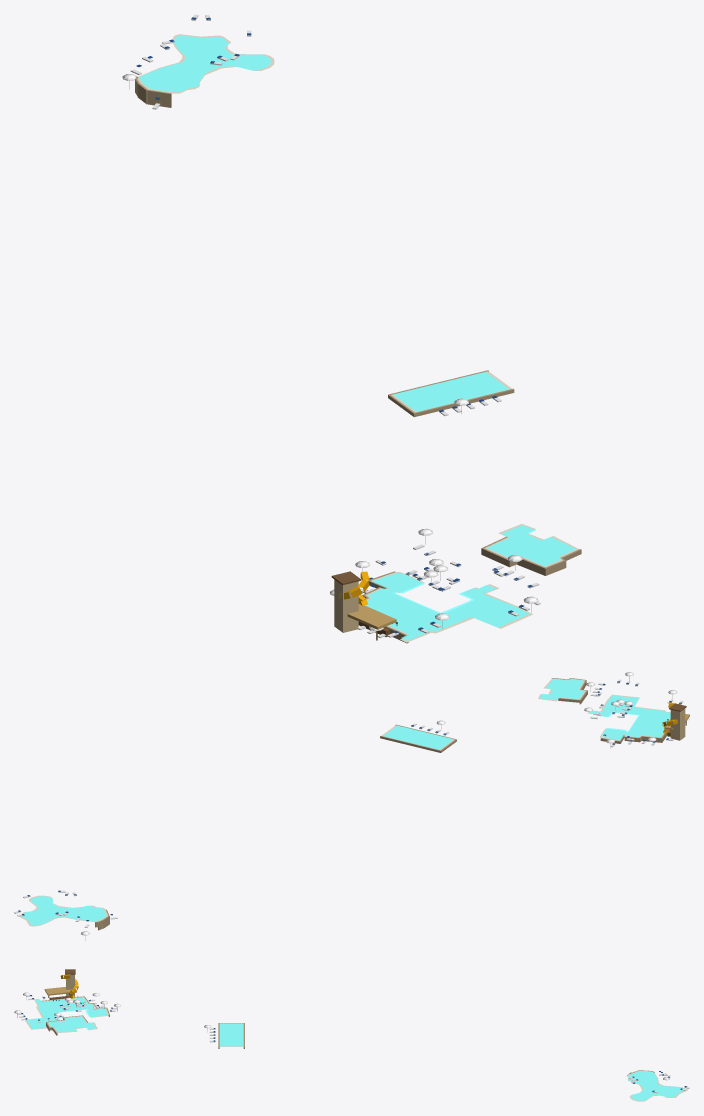
Rendered from hyattpool.glb.
3 views of the same model, one above another, from view 1: azimuth 30°, elevation 25°; view 2: azimuth 150°, elevation 25°; view 3: azimuth 270°, elevation 25° (orthographic). The views are drawn at different scales.
Parts seen in each view (by area): view 1: hyattpool_lod0; view 2: hyattpool_lod0; view 3: hyattpool_lod0.
Boxes of the visible parts, x1=… form: hyattpool_lod0: x1=122, y1=14, x2=581, y2=643; hyattpool_lod0: x1=14, y1=672, x2=689, y2=940; hyattpool_lod0: x1=14, y1=969, x2=689, y2=1101.
Size of what is drawn, in the model's own units: 97.87 by 12.29 by 227.
